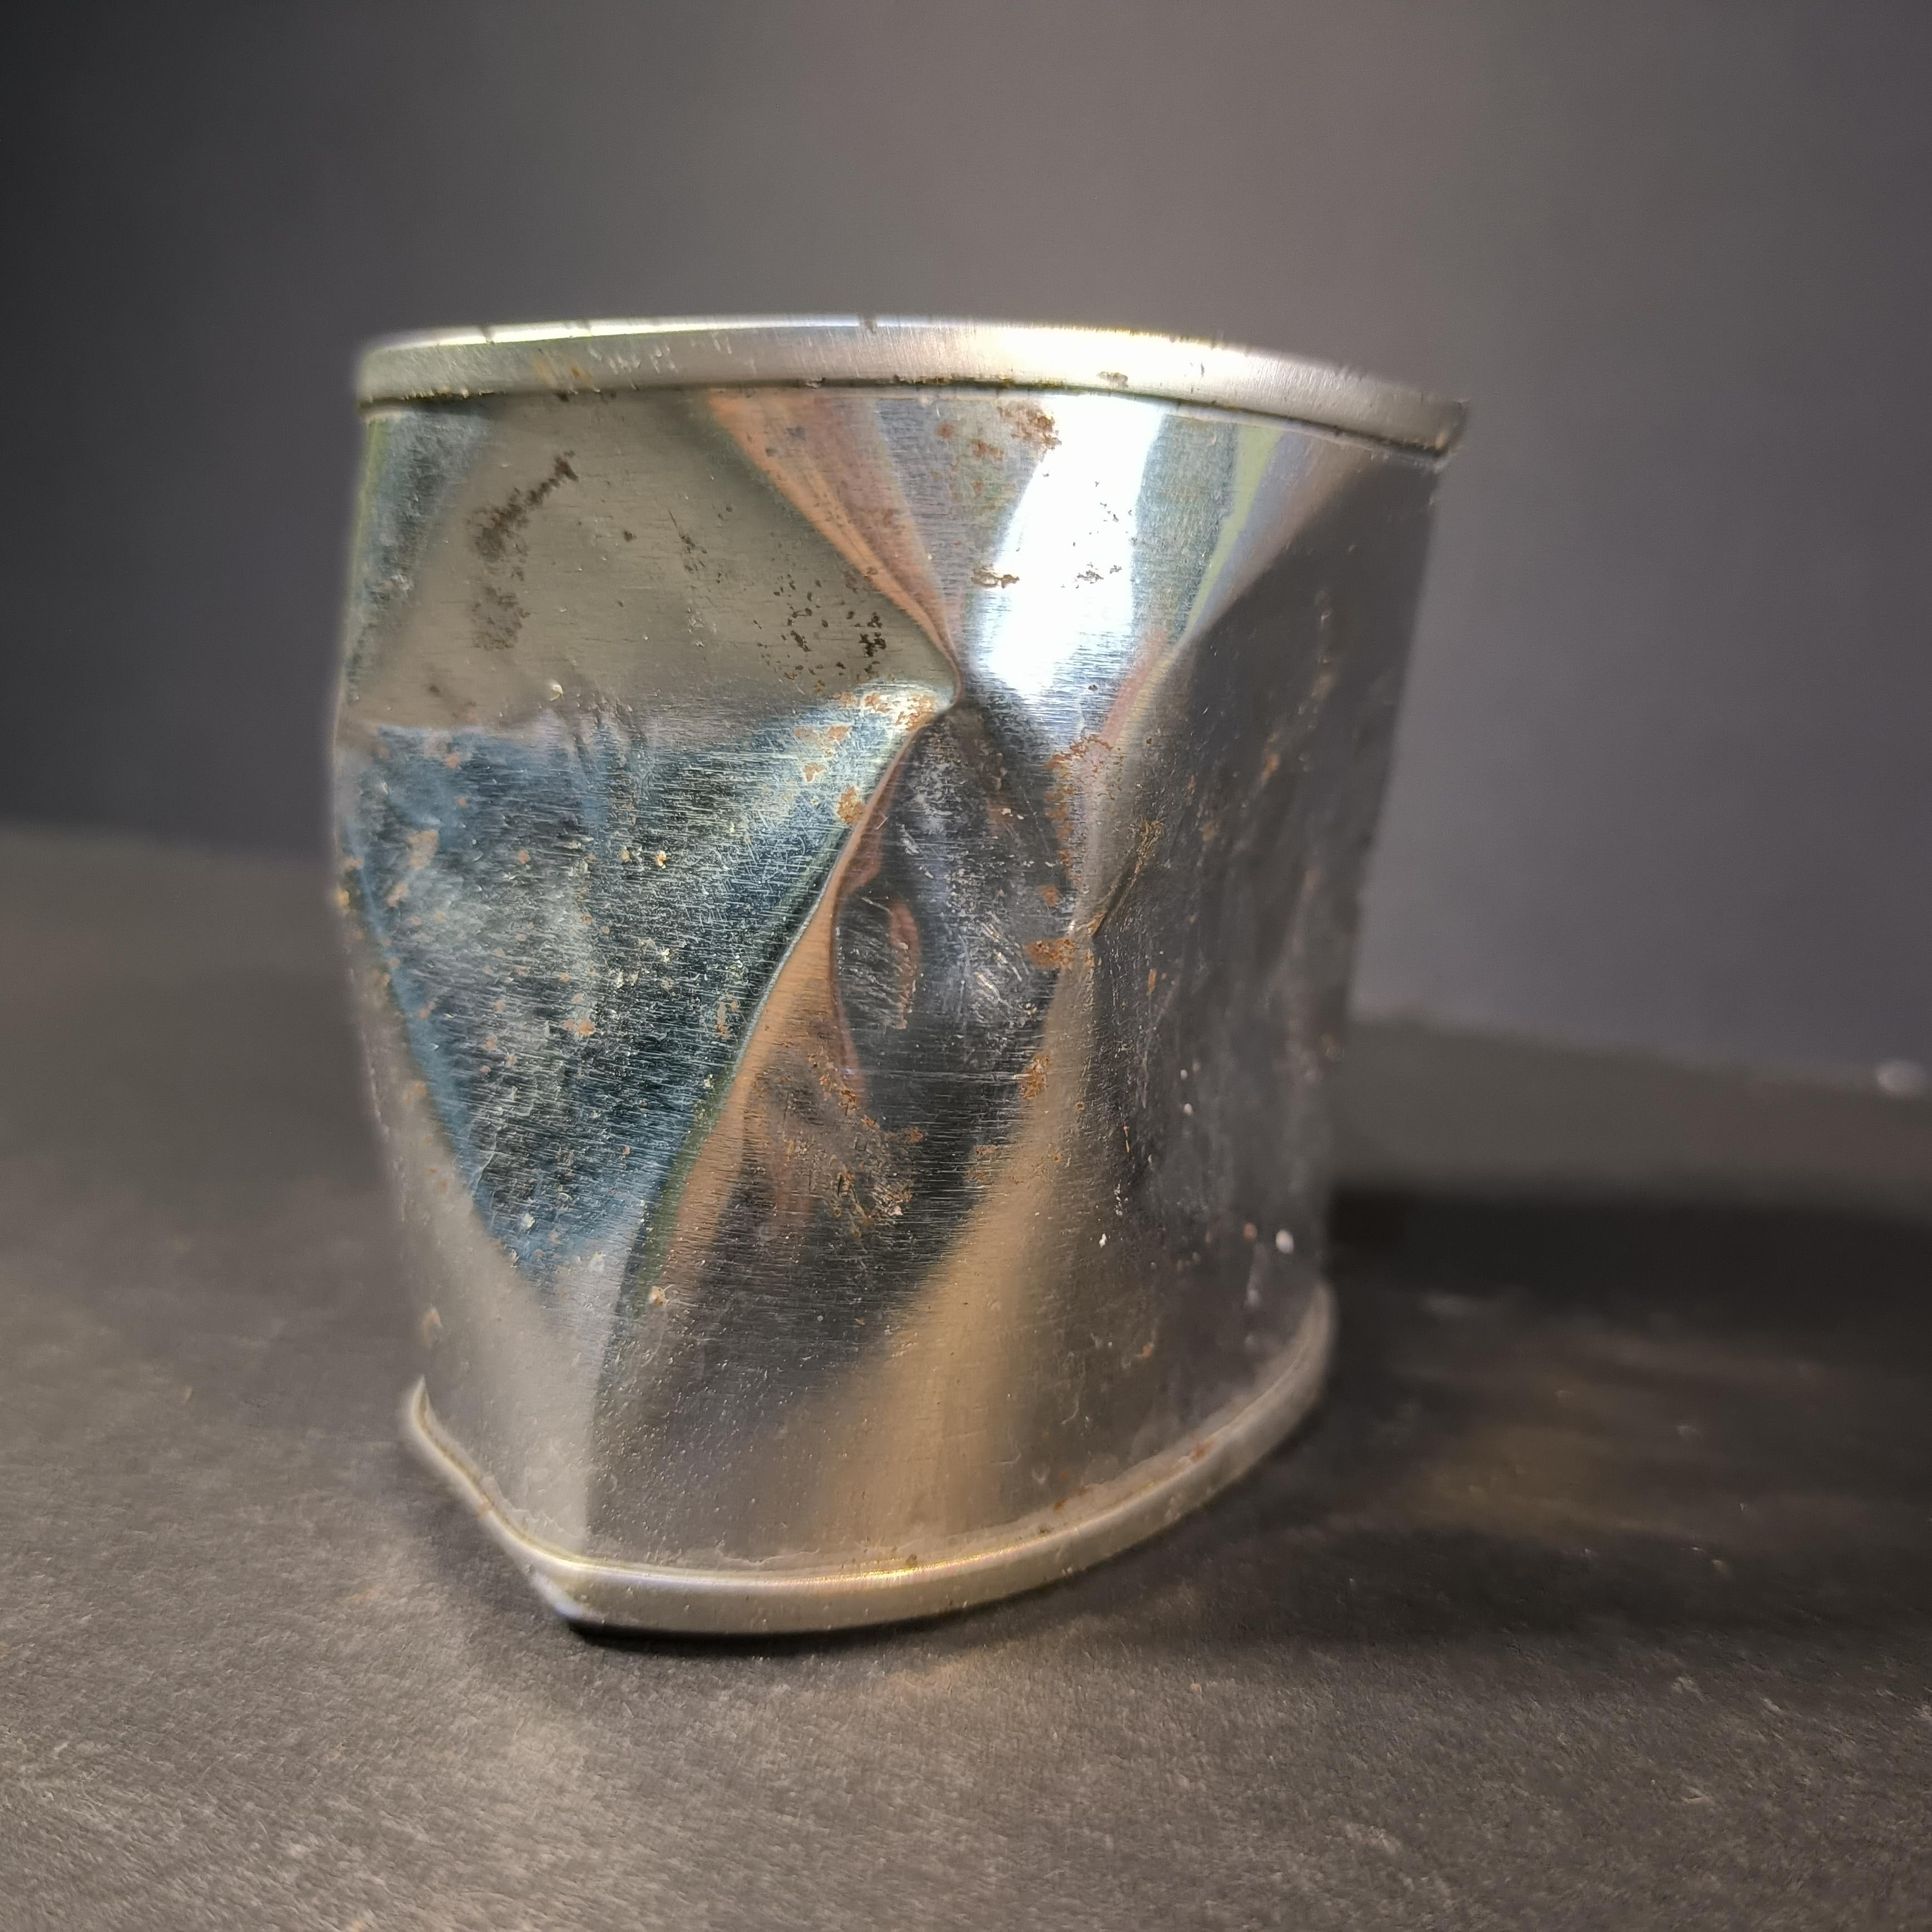Dented: (295, 292, 1493, 1656)
